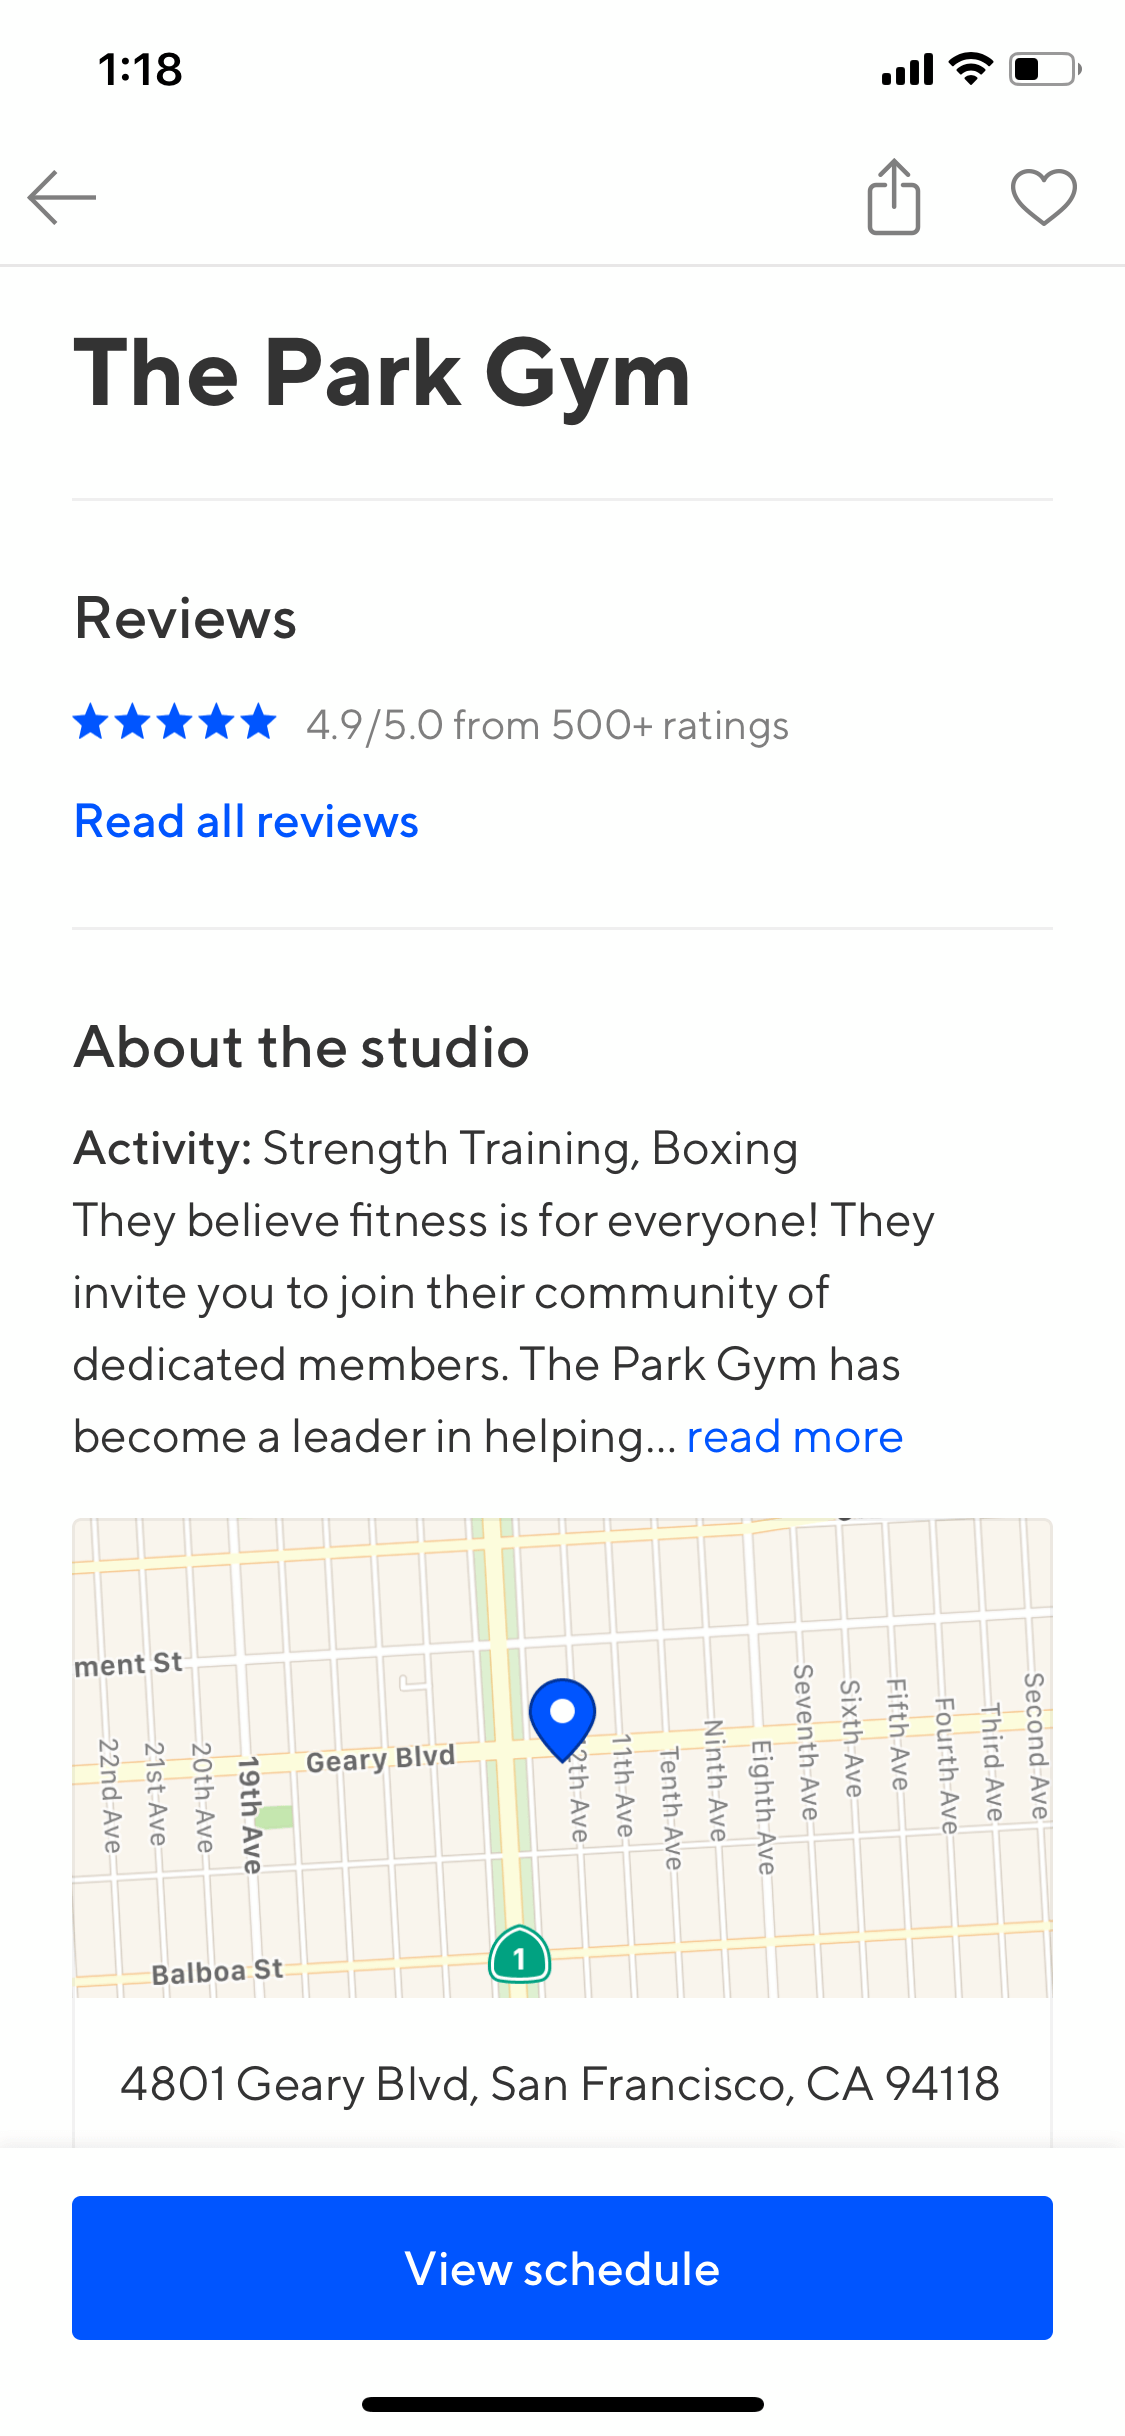Buttons: (54, 2183, 1064, 2361), (834, 138, 956, 255), (2, 138, 124, 253), (993, 135, 1100, 253)
Rating: (56, 680, 455, 764)
